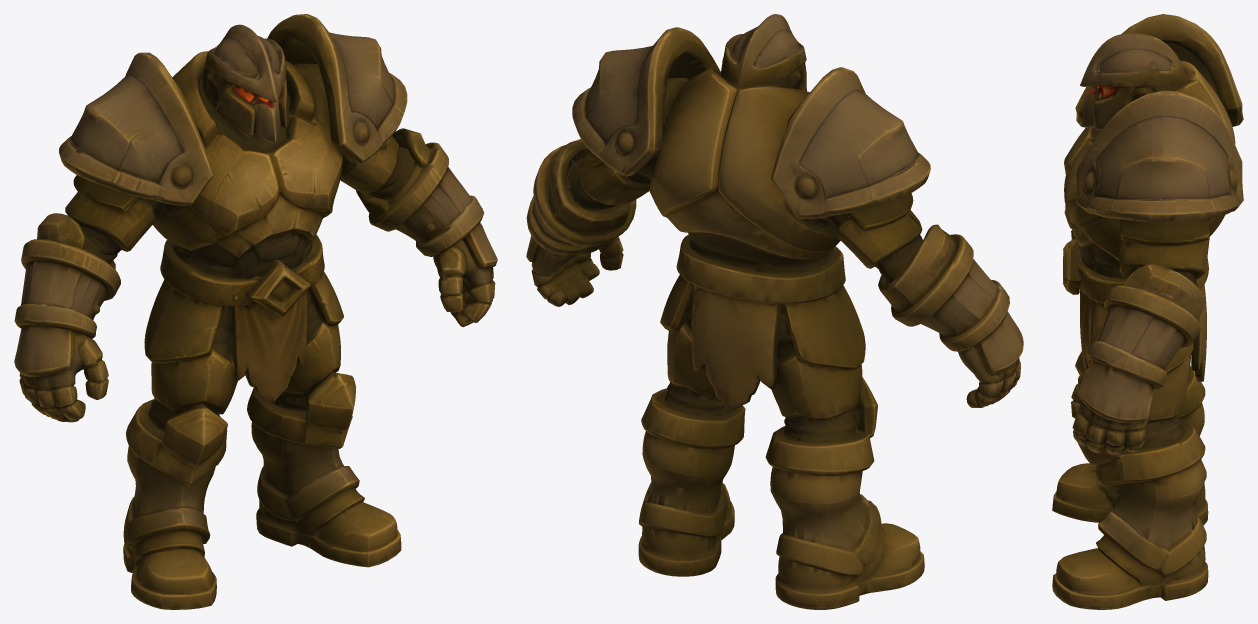
Rendered from Torp_old.fbx.
3 renders of one model, left to right at view 1: azimuth 30°, elevation 25°; view 2: azimuth 150°, elevation 25°; view 3: azimuth 270°, elevation 25°, orthographic. The views are drawn at different scales.
Visible parts, largest first — view 1: material; view 2: material; view 3: material.
Part boxes in pixels (left/top/right/bottom): material: left=14, top=14, right=497, bottom=609; material: left=526, top=14, right=1023, bottom=609; material: left=1052, top=14, right=1243, bottom=609.
Bounding box in the file's own units: 98.82 × 107 × 35.65.
1 material, 1 textured.
